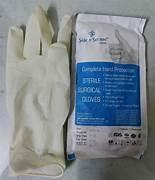Glove: (6, 7, 71, 176)
